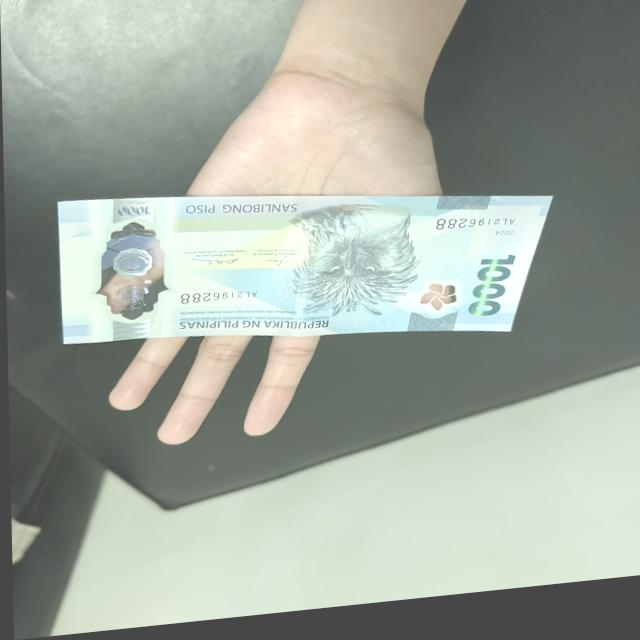clear_window: (98, 221, 168, 330)
eagle: (291, 206, 416, 332)
sampaguita: (419, 290, 458, 323)
